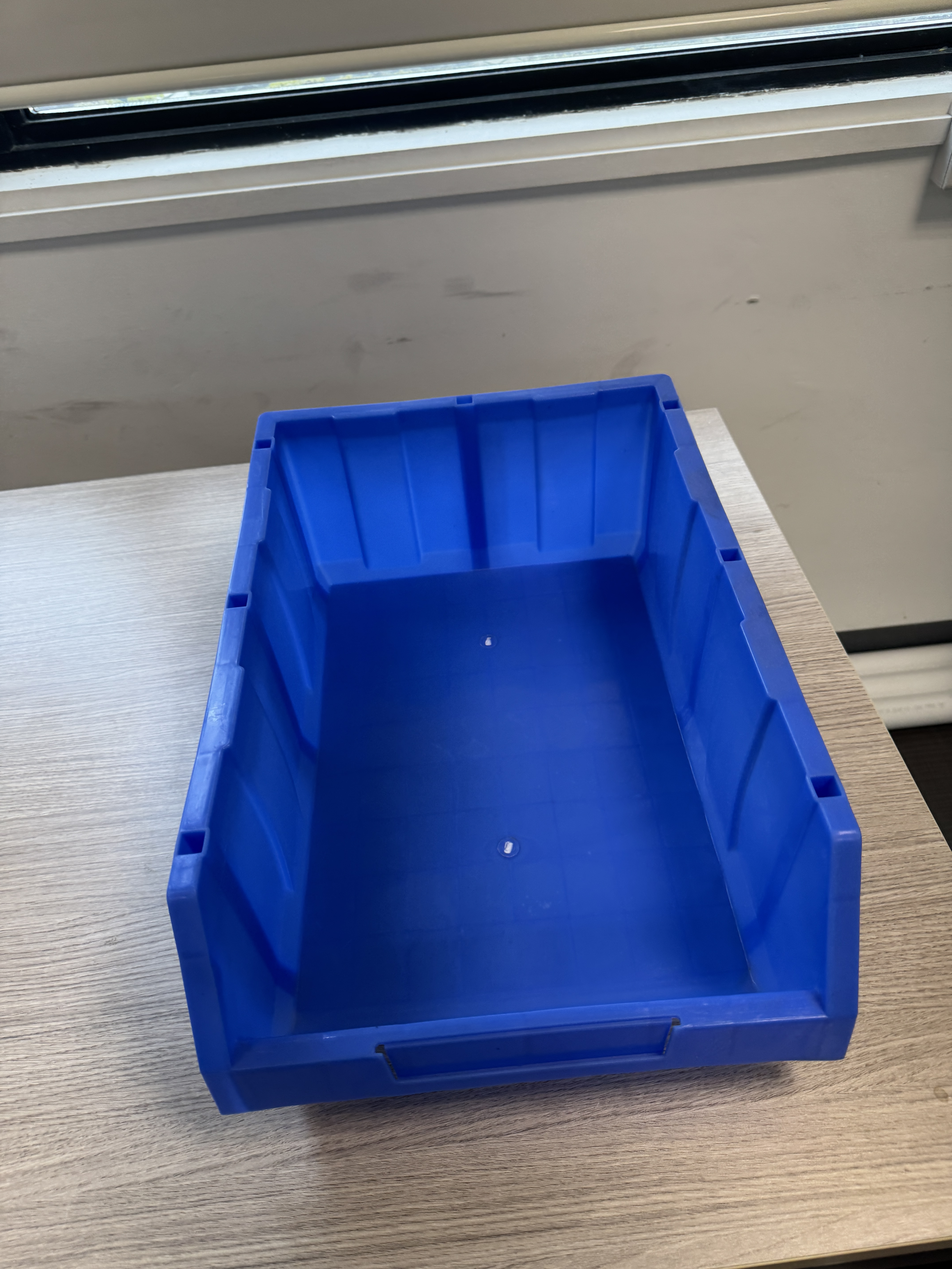Bin Boundary: (161, 379, 843, 1055)
